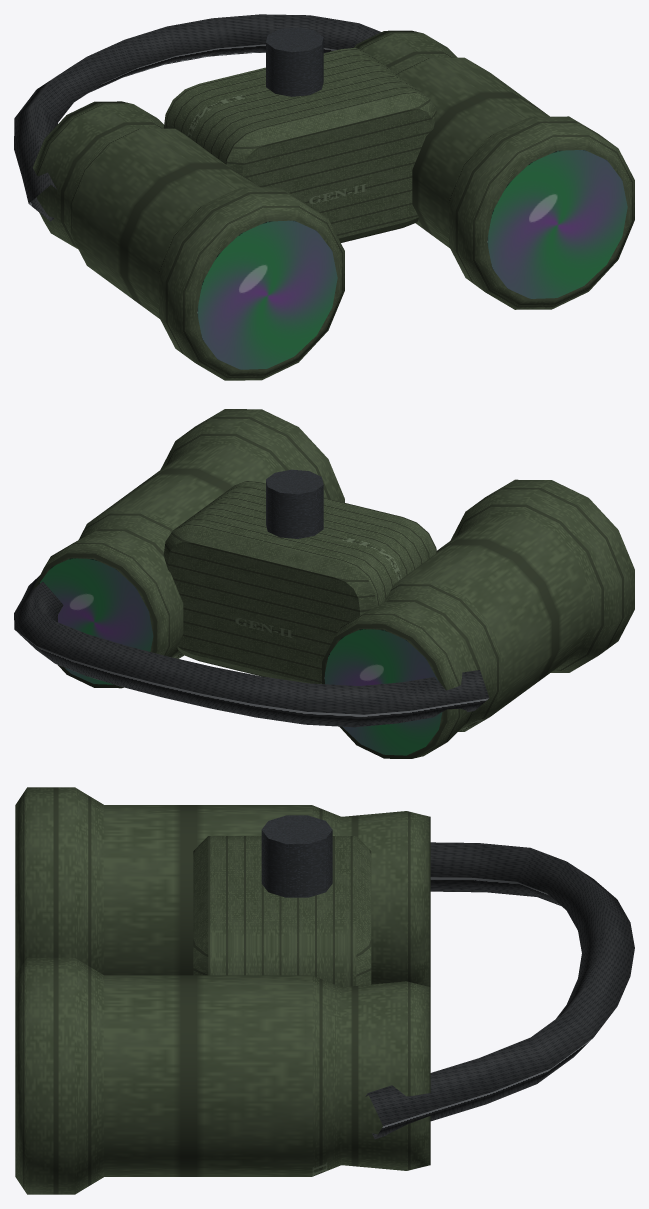
The model's file is nightvision.obj.
3 renders of one model, top to bottom at view 1: azimuth 30°, elevation 25°; view 2: azimuth 150°, elevation 25°; view 3: azimuth 270°, elevation 25°, orthographic. The views are drawn at different scales.
Visible parts, largest first — view 1: nightvision_0_surface, nightvision_1_surface; view 2: nightvision_0_surface, nightvision_1_surface; view 3: nightvision_0_surface.
Boxes of the visible parts, x1,y1,x2,y2 form: nightvision_0_surface: (14,14,634,380); nightvision_1_surface: (197,150,627,369); nightvision_0_surface: (14,409,634,758); nightvision_1_surface: (38,558,442,755); nightvision_0_surface: (15,787,634,1194).
Size of the model in its own units: 0.2161 by 0.1 by 0.2094.
2 materials, 2 textured.
